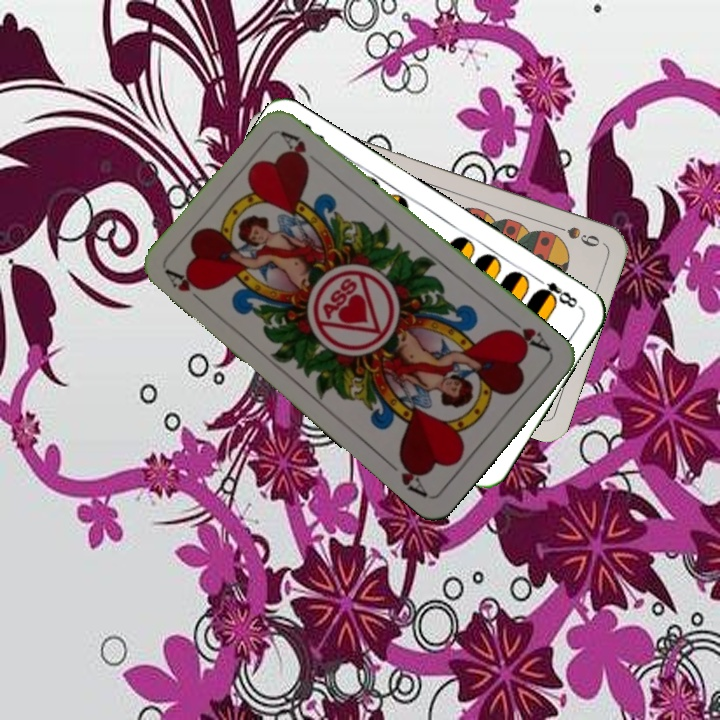E8: (530, 272, 581, 311)
HA: (501, 313, 553, 355), (162, 265, 210, 310)
S9: (547, 220, 603, 250)
